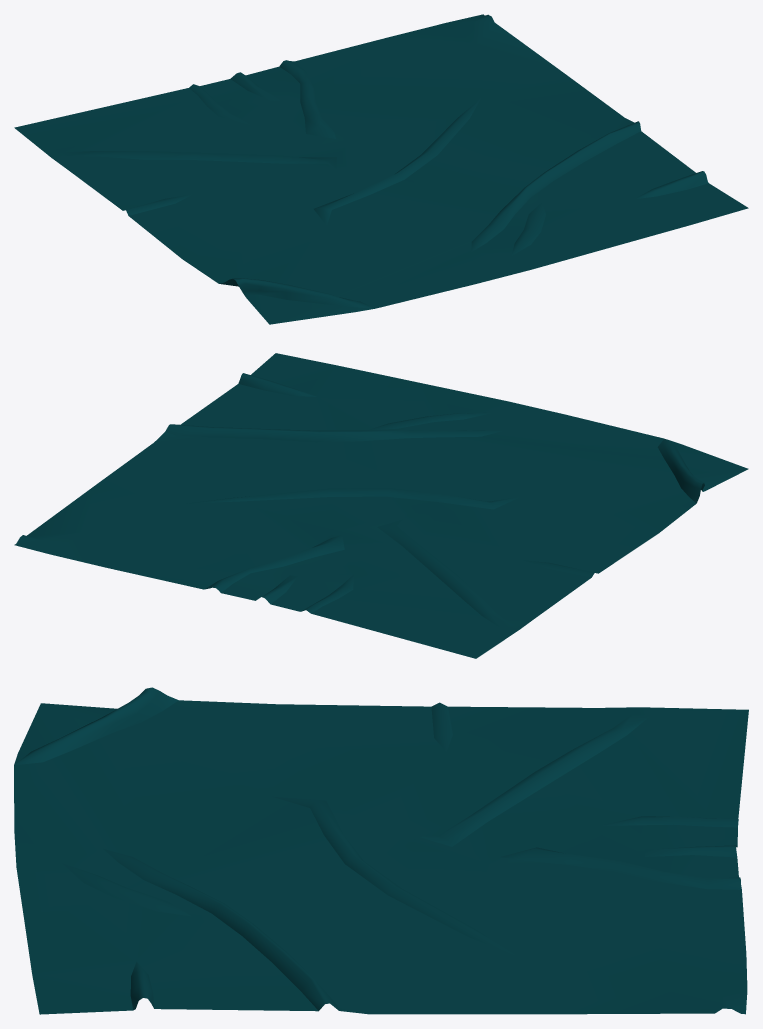
Rendered from SM_SquareCarpet.FBX.
The picture shows the model from 3 angles, top to bottom: view 1: azimuth 30°, elevation 25°; view 2: azimuth 150°, elevation 25°; view 3: azimuth 270°, elevation 25°; orthographic projection. The views are drawn at different scales.
Visible parts, largest first — view 1: SM_SquareCarpet; view 2: SM_SquareCarpet; view 3: SM_SquareCarpet.
Boxes of the visible parts, bbox=[...] form: SM_SquareCarpet: bbox=[14, 14, 748, 324]; SM_SquareCarpet: bbox=[14, 353, 748, 658]; SM_SquareCarpet: bbox=[14, 687, 748, 1014].
Size of the model in its own units: 408 by 407 by 11.67.
